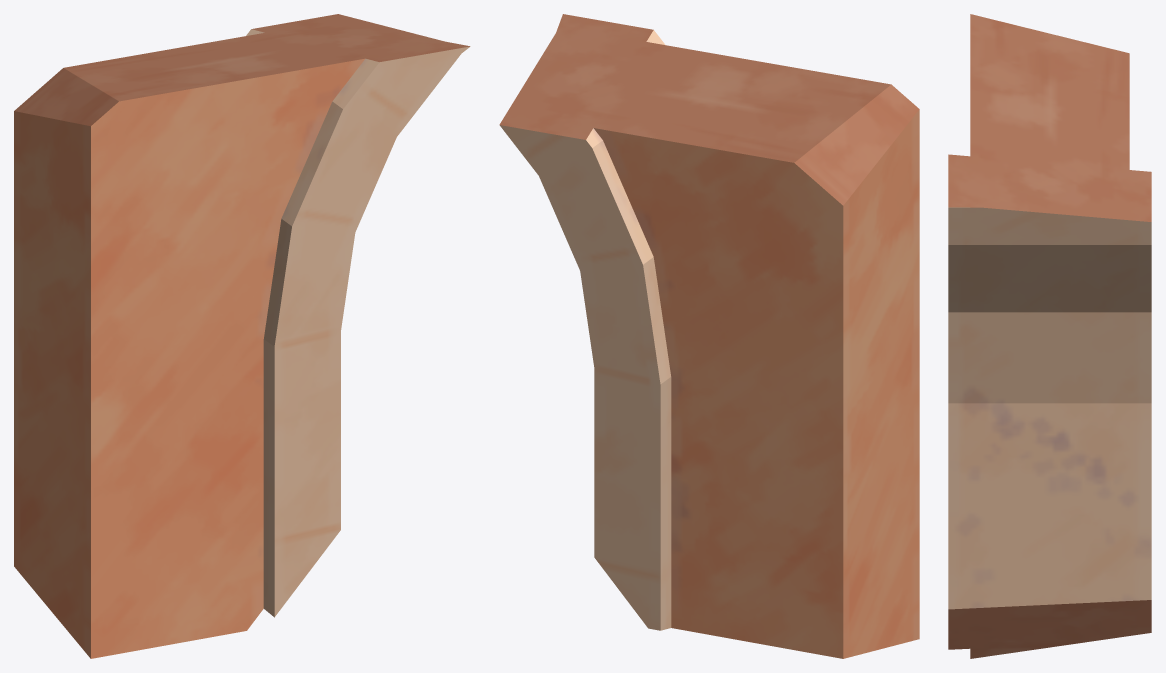
File: wall2_door_s09.fbx
3 views of the same model, side by side, from view 1: azimuth 30°, elevation 25°; view 2: azimuth 150°, elevation 25°; view 3: azimuth 270°, elevation 25° (orthographic). The views are drawn at different scales.
Parts seen in each view (by area): view 1: wall2_door_s09; view 2: wall2_door_s09; view 3: wall2_door_s09.
Boxes of the visible parts, bbox=[...] form: wall2_door_s09: bbox=[14, 14, 470, 658]; wall2_door_s09: bbox=[499, 14, 919, 658]; wall2_door_s09: bbox=[948, 14, 1151, 658].
Bounding box in the file's own units: 2.78 × 4.03 × 1.28.
